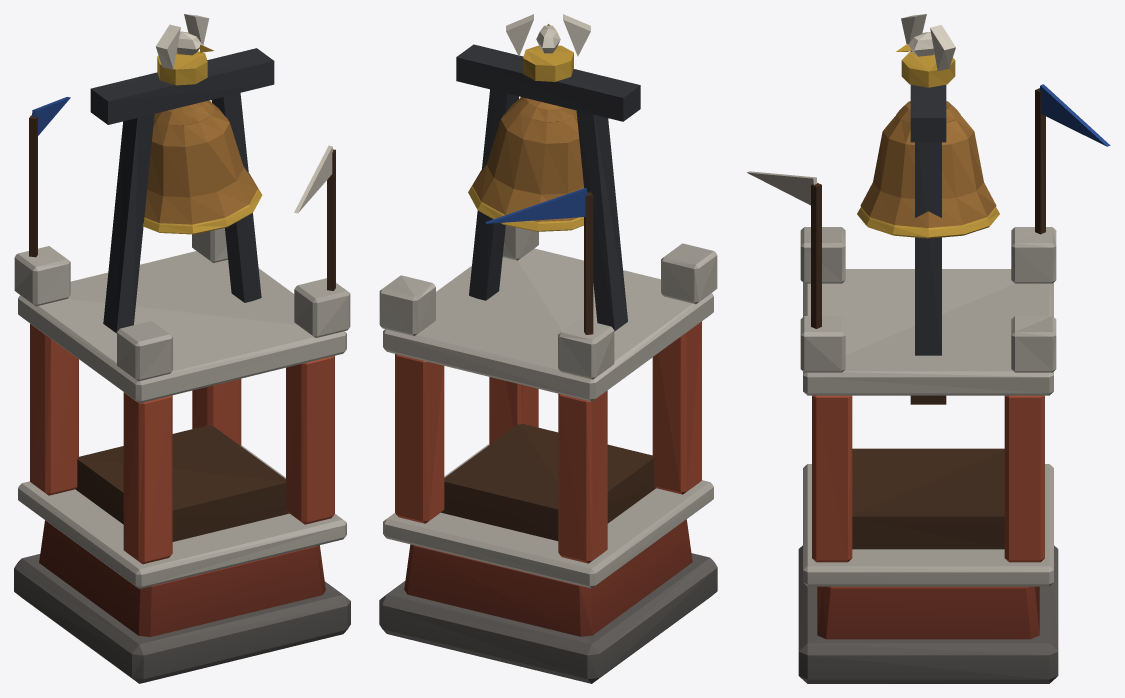
The model's file is sky_toll.glb.
3 views of the same model, side by side, from view 1: azimuth 30°, elevation 25°; view 2: azimuth 150°, elevation 25°; view 3: azimuth 270°, elevation 25° (orthographic). The views are drawn at different scales.
Visible parts, largest first — view 1: sky_toll; view 2: sky_toll; view 3: sky_toll.
Boxes of the visible parts, x1=… form: sky_toll: x1=14, y1=14, x2=350, y2=683; sky_toll: x1=379, y1=14, x2=717, y2=683; sky_toll: x1=746, y1=14, x2=1110, y2=683.
Bounding box in the file's own units: 0.58 × 1.51 × 0.8132.
